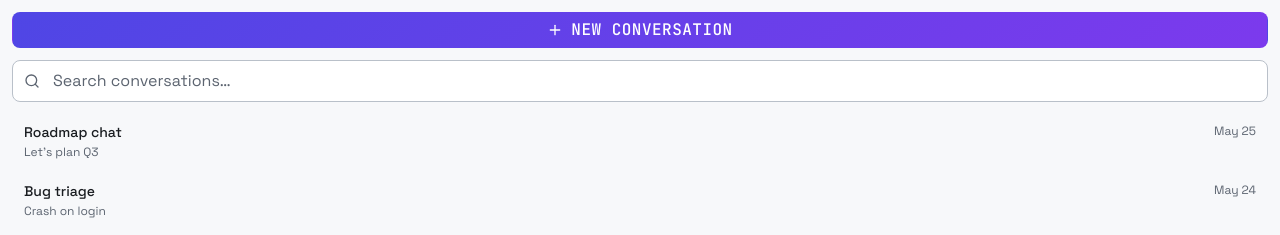
Test: ConversationList › searches and renders matching results
Expected: the text "Roadmap chat" is shown, [24,123,122,141]
Type "bug" into the search field labelled "Search conversations". click: (640, 81)
box: [12,60,1268,102]
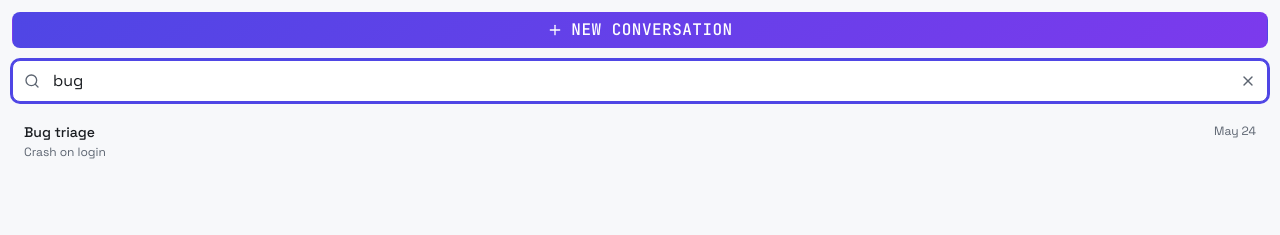
Expected: the text "Bug triage" is shown, [24,123,95,141]
Result: the link "Roadmap chat" is gone
